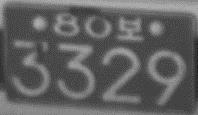0: (84, 12, 112, 39)
2: (102, 45, 142, 104)
3: (56, 42, 96, 100), (12, 39, 50, 98)
8: (53, 11, 80, 38)
9: (147, 48, 187, 106)
보: (115, 15, 144, 41)
